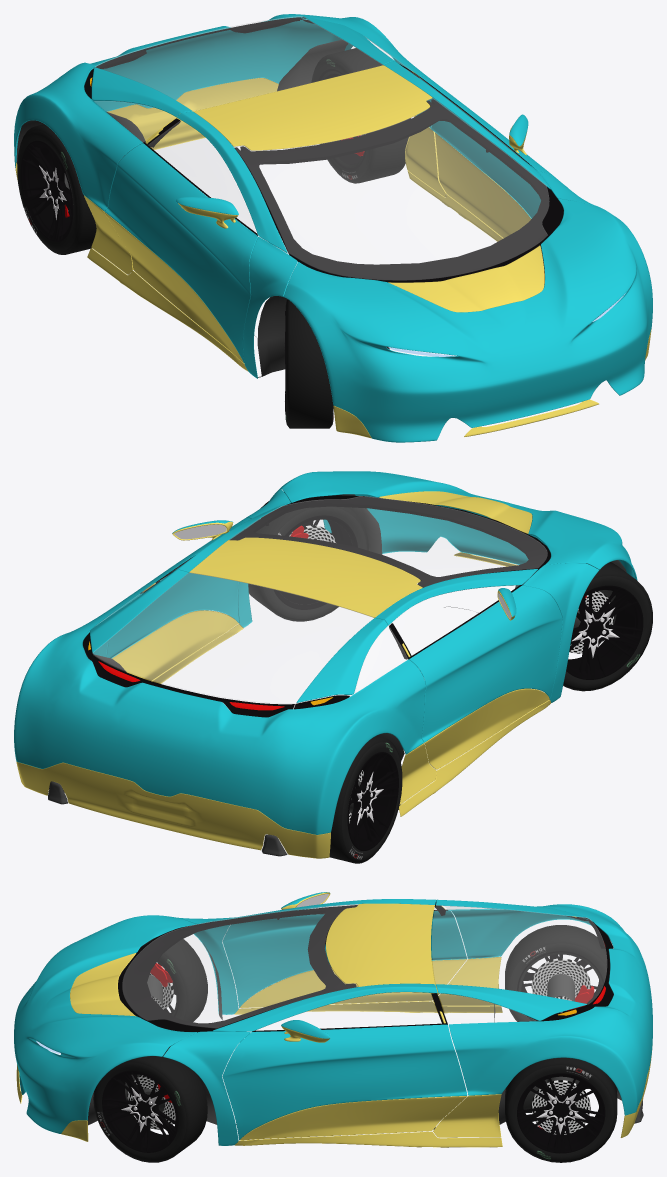
Rendered from car-concept-showroom.glb.
3 views of the same model, one above another, from view 1: azimuth 30°, elevation 25°; view 2: azimuth 150°, elevation 25°; view 3: azimuth 270°, elevation 25° (orthographic). The views are drawn at different scales.
Visible parts, largest first — view 1: BodyHood, BodyWindshield, BodyRearPanelsColor1, BodyRearwindow, BodyDoorRColor1, BodyWindshieldGasket, BodyRoofPanel, BodyPanelsColor2, BodyPillars, BodyHoodTopgrill, WheelFrontR, BodyDoorLColor2 (+10 smaller); view 2: BodyRearPanelsColor1, BodyRearwindow, BodyWindshield, BodyPanelsColor2, BodyDoorRColor1, BodyHood, BodyRoofPanel, BodyPillars, BodyWindshieldGasket, WheelFrontRRim, BodyDoorLColor1, BodyDoorLColor2 (+11 smaller); view 3: BodyRearPanelsColor1, BodyWindshield, BodyDoorLColor1, BodyHood, BodyRearwindow, BodyPanelsColor2, BodyPillars, BodyRoofPanel, BodyDoorRColor1, BodyWindshieldGasket, BodyDoorLColor2, WheelFrontL (+17 smaller).
Part boxes in pixels (x1,y1,x2,y2): BodyHood: (283,198,652,442); BodyWindshield: (234,98,549,280); BodyRearPanelsColor1: (14,14,434,210); BodyRearwindow: (95,16,382,110); BodyDoorRColor1: (104,143,257,362); BodyWindshieldGasket: (234,99,563,282); BodyRoofPanel: (193,65,432,150); BodyPanelsColor2: (15,77,651,438); BodyPillars: (176,61,598,378); BodyHoodTopgrill: (388,245,544,312); WheelFrontR: (285,299,333,428); BodyDoorLColor2: (434,132,530,238); BodyRearPanelsColor1: (14,569,425,834); BodyRearwindow: (92,573,373,703); BodyWindshield: (229,496,547,587); BodyPanelsColor2: (16,552,550,858); BodyDoorRColor1: (409,585,562,742); BodyHood: (279,471,637,580); BodyRoofPanel: (189,537,422,617); BodyPillars: (175,489,599,702); BodyWindshieldGasket: (230,495,550,587); WheelFrontRRim: (566,585,643,679); BodyDoorLColor1: (106,517,250,658); BodyDoorLColor2: (112,610,238,681); BodyRearPanelsColor1: (436,899,652,1115); BodyWindshield: (122,904,357,1028); BodyDoorLColor1: (222,1024,467,1139); BodyHood: (14,915,196,1133); BodyRearwindow: (432,905,606,1003); BodyPanelsColor2: (16,957,652,1147); BodyPillars: (163,899,437,1145); BodyRoofPanel: (326,903,434,986); BodyDoorRColor1: (222,909,467,1007); BodyWindshieldGasket: (118,905,357,1032); BodyDoorLColor2: (240,1096,467,1140); WheelFrontL: (93,1050,207,1162).
Size of the model in its own units: 2.54 by 1.15 by 4.36.
Materials: 15 (4 with a texture image).
